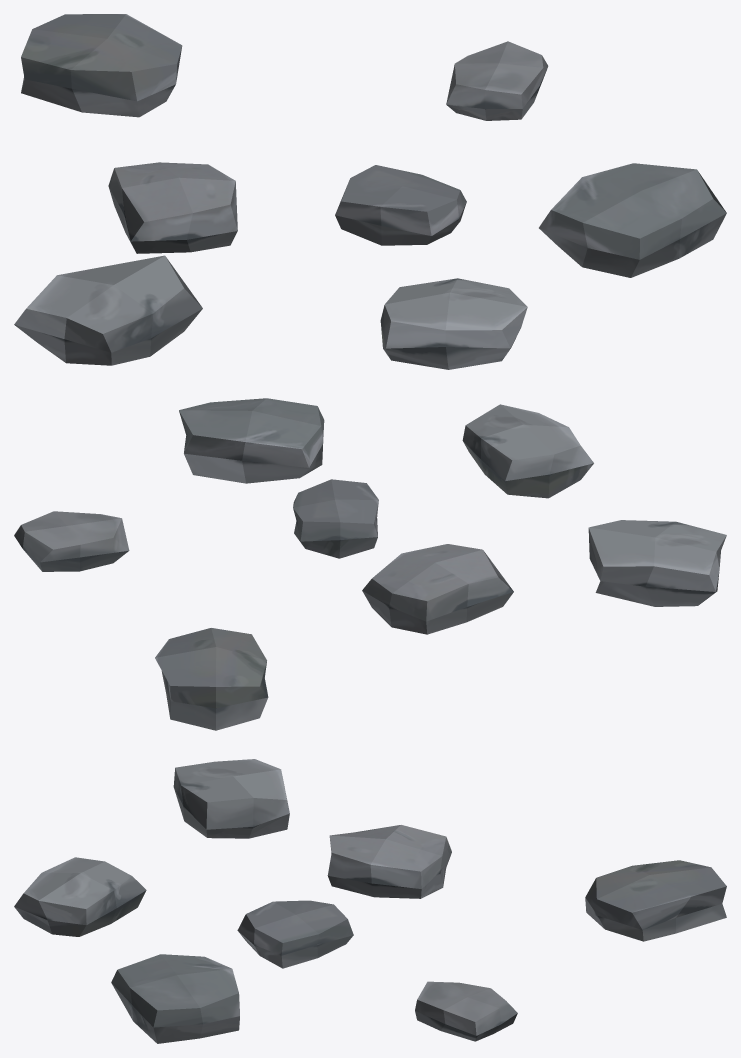
File: Stones.001.fbx
3 views of the same model, one above another, from view 1: azimuth 30°, elevation 25°; view 2: azimuth 150°, elevation 25°; view 3: azimuth 270°, elevation 25° (orthographic). The views are drawn at different scales.
Visible parts, largest first — view 1: Stones.001; view 2: Stones.001; view 3: Stones.001.
Boxes of the visible parts, left/top/right/bottom form: Stones.001: left=14, top=14, right=726, bottom=369; Stones.001: left=14, top=398, right=726, bottom=730; Stones.001: left=14, top=759, right=726, bottom=1043.
Bounding box in the file's own units: 265 × 26.3 × 299.
